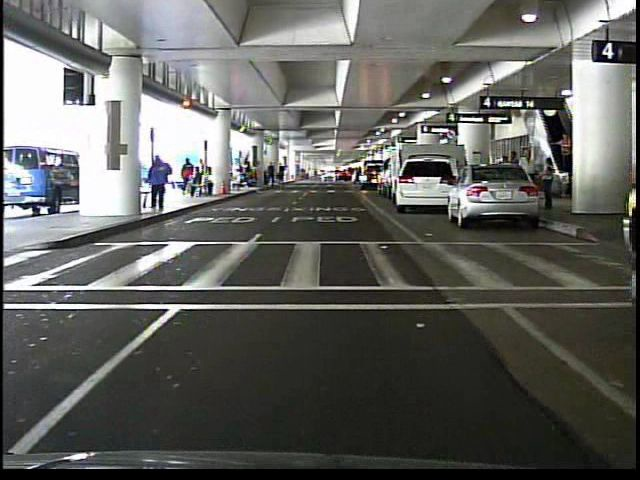person: (144, 154, 174, 212)
